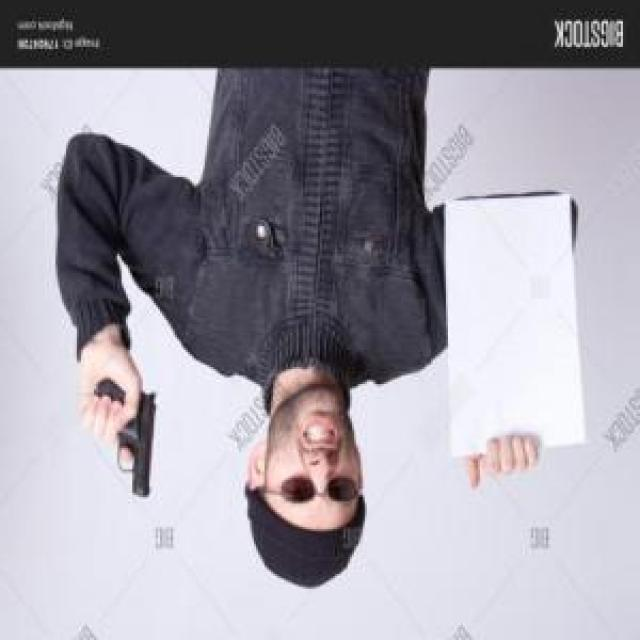pistol: (91, 380, 160, 499)
